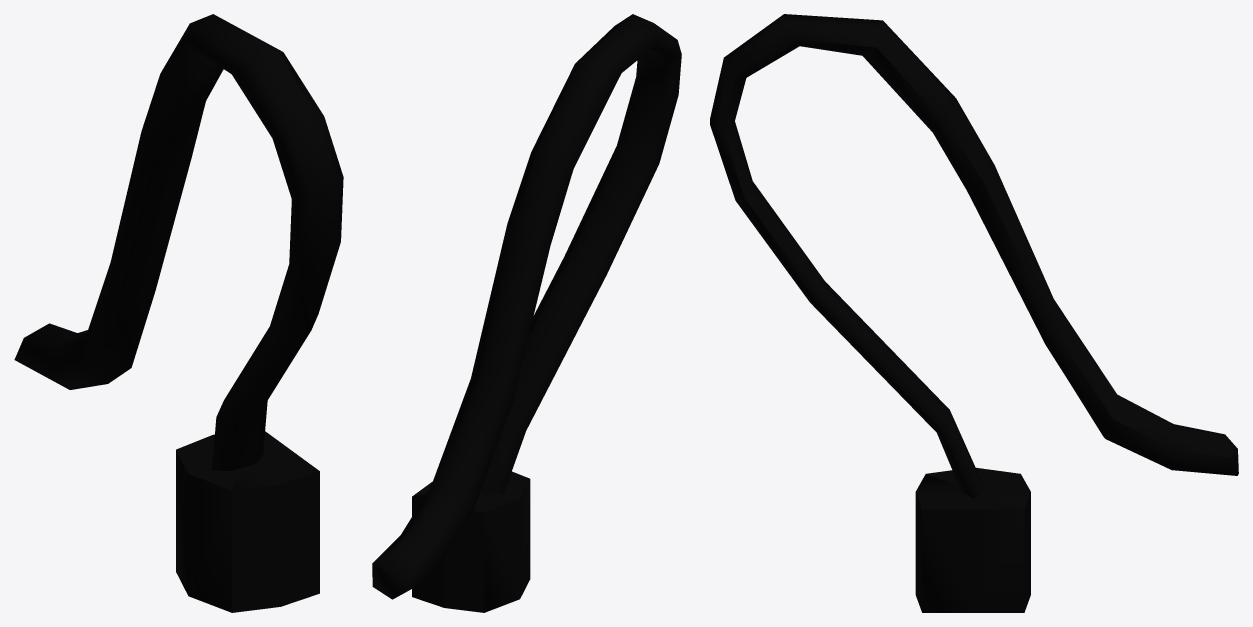
Rendered from powercord1.fbx.
3 views of the same model, side by side, from view 1: azimuth 30°, elevation 25°; view 2: azimuth 150°, elevation 25°; view 3: azimuth 270°, elevation 25° (orthographic). The views are drawn at different scales.
Visible parts, largest first — view 1: cord4, plug4; view 2: cord4, plug4; view 3: cord4, plug4.
Part boxes in pixels (bbox=[...]): cord4: bbox=[14, 14, 343, 470]; plug4: bbox=[176, 431, 319, 612]; cord4: bbox=[372, 14, 681, 599]; plug4: bbox=[412, 471, 530, 612]; cord4: bbox=[710, 14, 1238, 498]; plug4: bbox=[915, 467, 1030, 612].
Bounding box in the file's own units: 0.1712 × 0.6389 × 0.5671.
